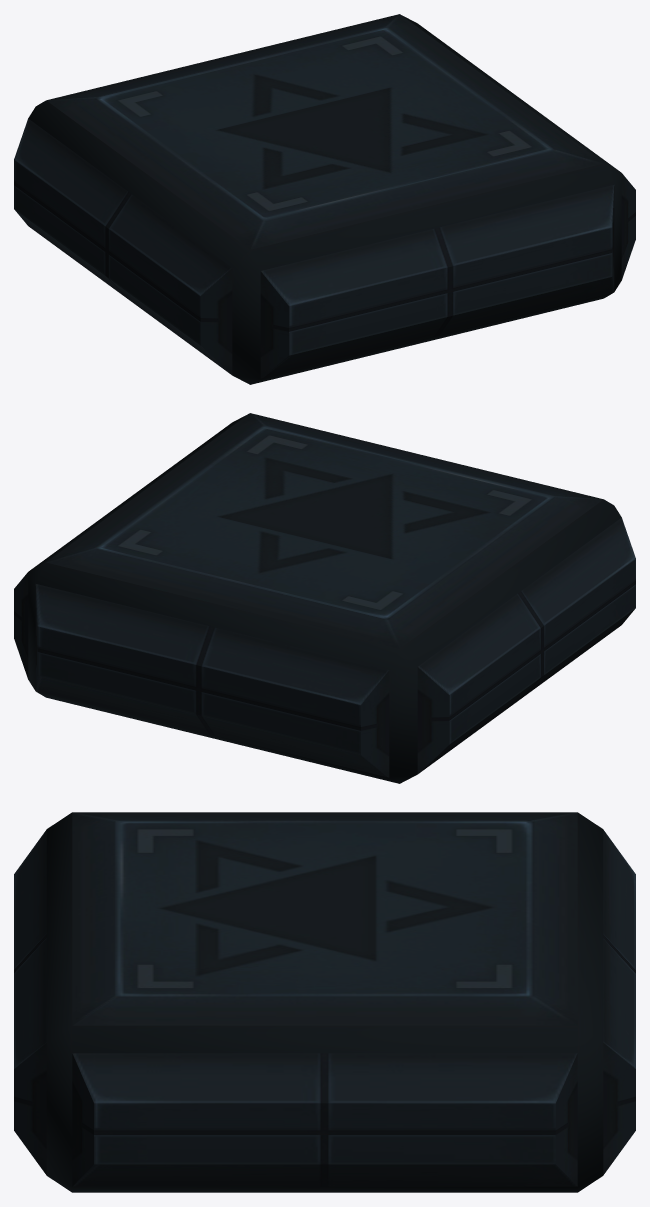
The model's file is ts_buzetz001.FBX.
3 views of the same model, one above another, from view 1: azimuth 30°, elevation 25°; view 2: azimuth 150°, elevation 25°; view 3: azimuth 270°, elevation 25° (orthographic). The views are drawn at different scales.
Parts seen in each view (by area): view 1: ts_buzetz001; view 2: ts_buzetz001; view 3: ts_buzetz001.
Boxes of the visible parts, <box> form: ts_buzetz001: <box>14,14,635,384</box>; ts_buzetz001: <box>14,413,635,783</box>; ts_buzetz001: <box>14,812,635,1192</box>.
Bounding box in the file's own units: 2.53 × 0.8415 × 2.53.
